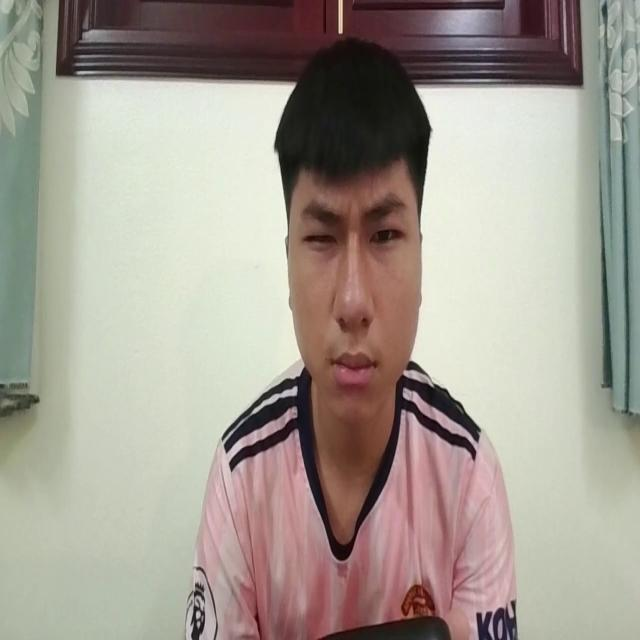student: (192, 59, 521, 640)
